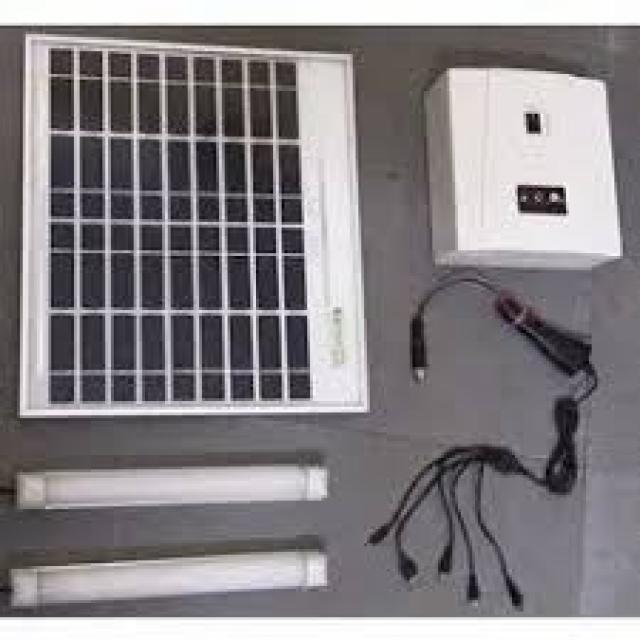no faulty: (47, 44, 305, 403)
